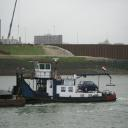tugboat: (11, 59, 119, 108)
